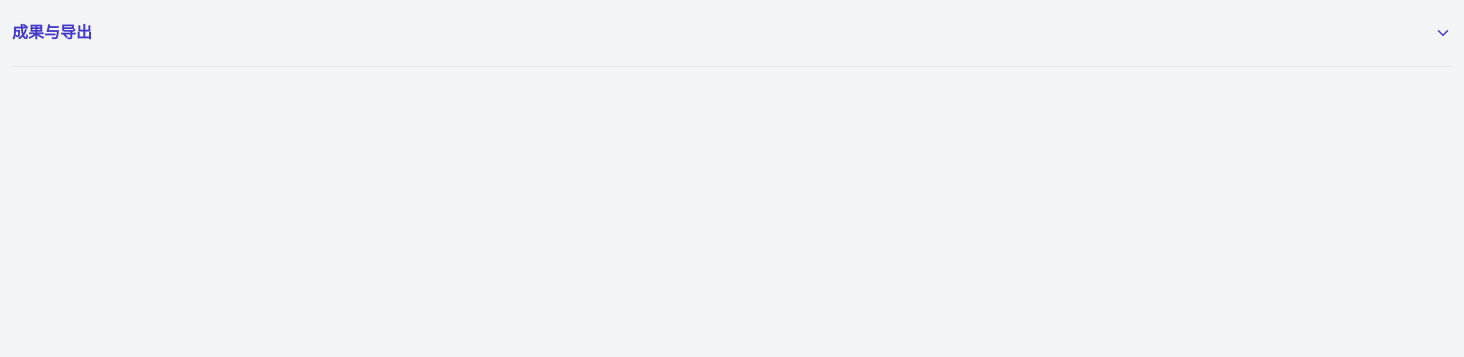
Test case: polls queued and running jobs, recovers from a transient error and stops at completion
The width and height of the screenshot is (1464, 357).
Later steps or results of the test are not shown.
Click the button "成果与导出".
click(52, 32)  # box [12,12,1452,54]
Wait 18000 ms
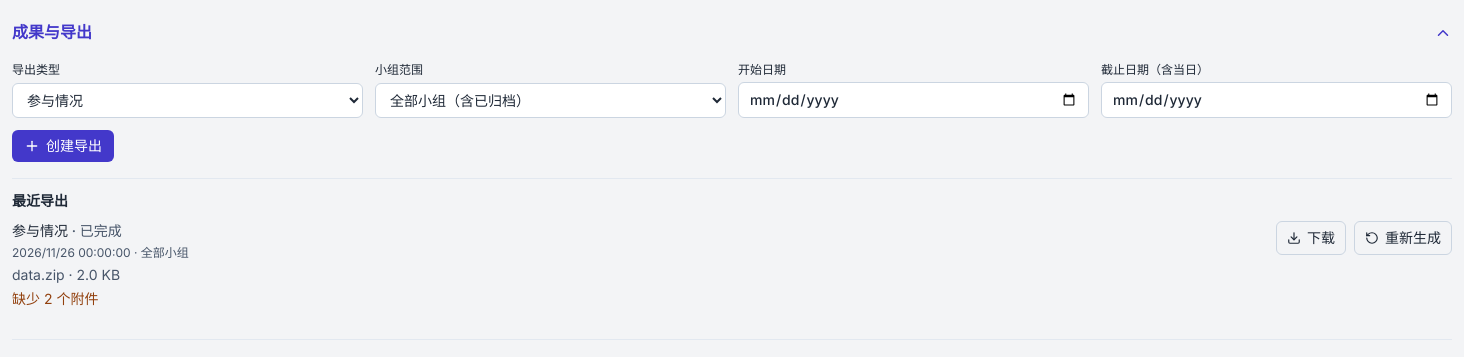
Now the text "· 已完成" is shown, box [72,222,122,239]
Now the text "data.zip · 2.0 KB" is shown, box [12,266,120,283]
Now the text "缺少 2 个附件" is shown, box [12,290,98,307]
